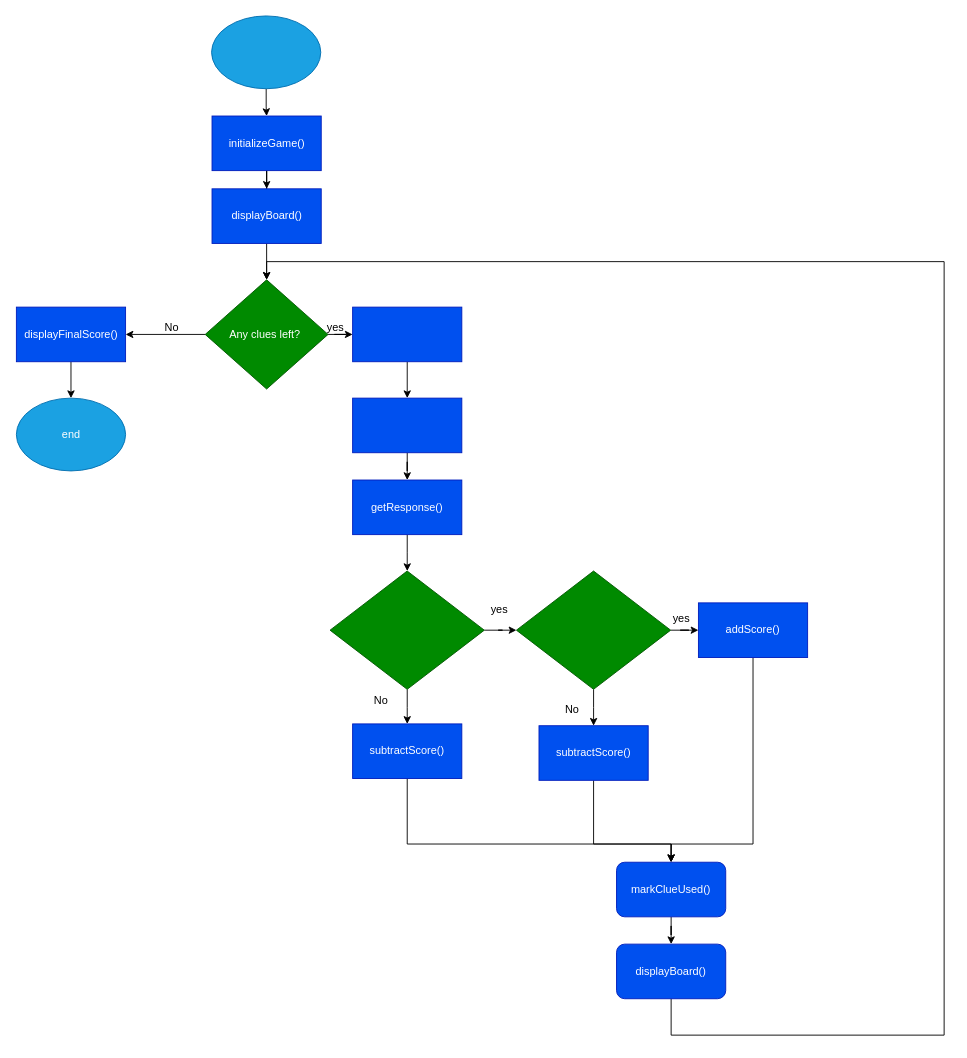
The diagram is 967 pixels wide and 1058 high, and some of its shapes have lost their labels. Here are the shapes that lost their labels. From the top down, the box of each, then its label:
(211, 15, 321, 89): start
(352, 306, 462, 362): selectClue()
(352, 397, 462, 453): startTimer()
(329, 570, 484, 689): Timer expired?
(516, 570, 671, 689): Is response correct?
